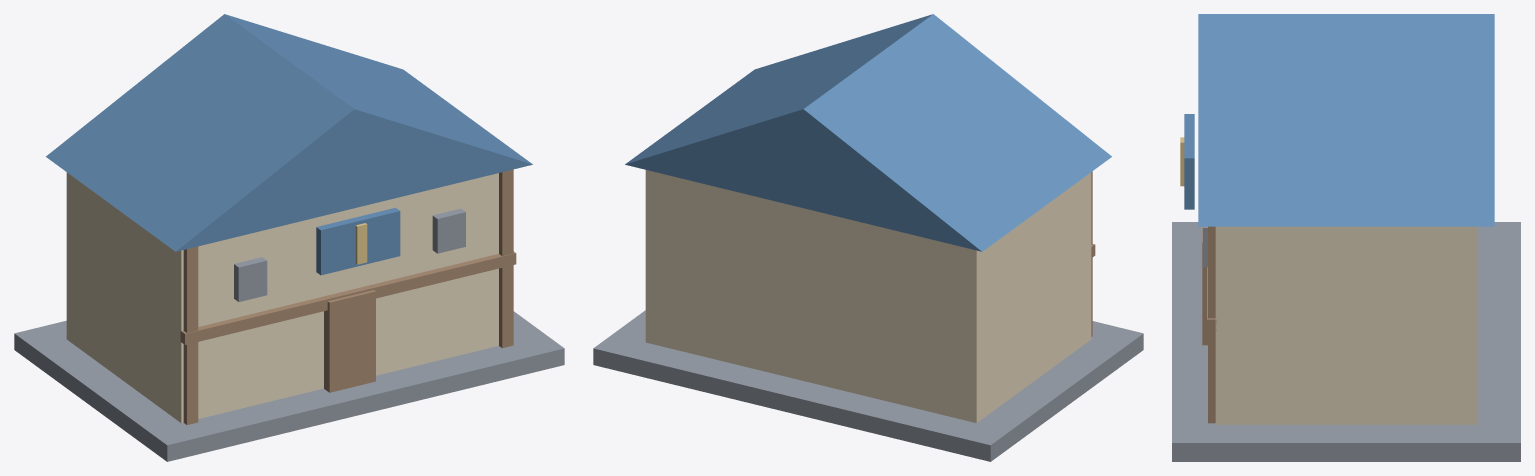
Rendered from cuartel.glb.
3 renders of one model, left to right at view 1: azimuth 30°, elevation 25°; view 2: azimuth 150°, elevation 25°; view 3: azimuth 270°, elevation 25°, orthographic. The views are drawn at different scales.
Parts seen in each view (by area): view 1: world; view 2: world; view 3: world.
Boxes of the visible parts, x1,y1,x2,y2 form: world: (14, 14, 564, 461); world: (593, 14, 1143, 461); world: (1172, 14, 1520, 461).
Bounding box in the file's own units: 6 × 4.27 × 4.
